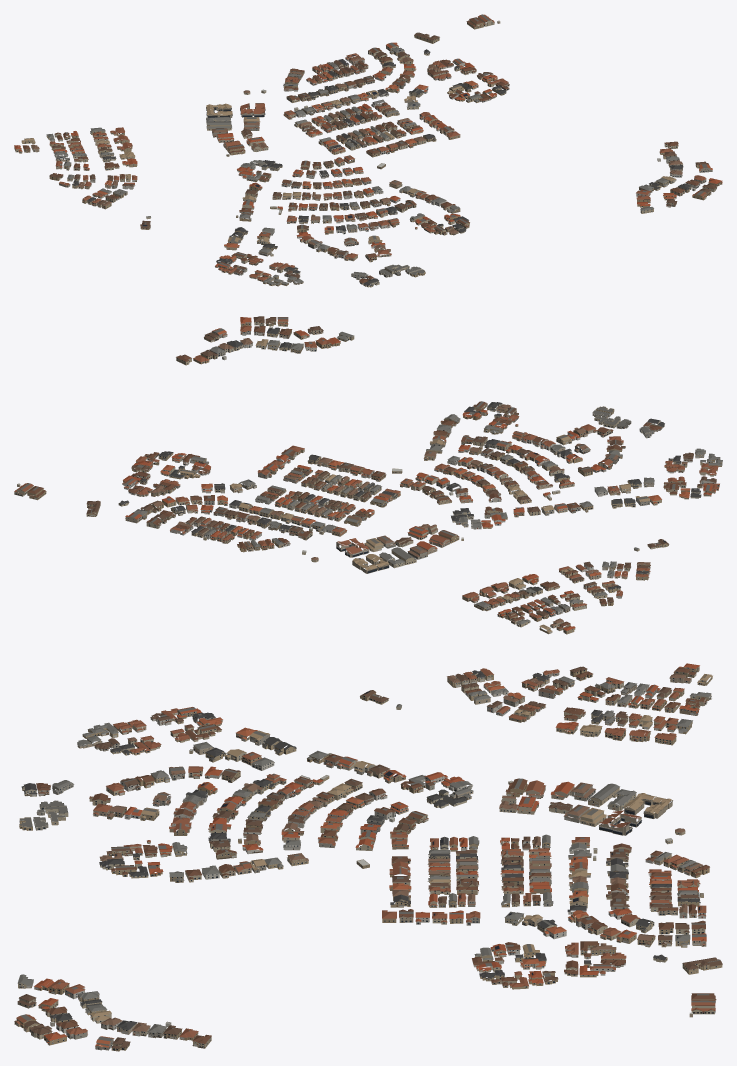
3 views of the same model, one above another, from view 1: azimuth 30°, elevation 25°; view 2: azimuth 150°, elevation 25°; view 3: azimuth 270°, elevation 25° (orthographic). The views are drawn at different scales.
Visible parts, largest first — view 1: buildings_r4_c2_lod0; view 2: buildings_r4_c2_lod0; view 3: buildings_r4_c2_lod0.
Part boxes in pixels (left/top/right/bottom): buildings_r4_c2_lod0: left=14, top=14, right=722, bottom=287; buildings_r4_c2_lod0: left=14, top=316, right=722, bottom=634; buildings_r4_c2_lod0: left=14, top=663, right=722, bottom=1051.
Size of the model in its own units: 1041 by 50.62 by 818.
